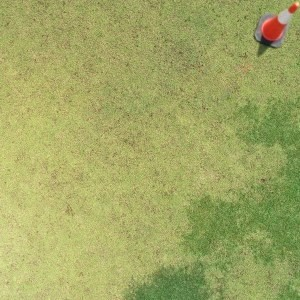traffic cone: (254, 1, 300, 50)
